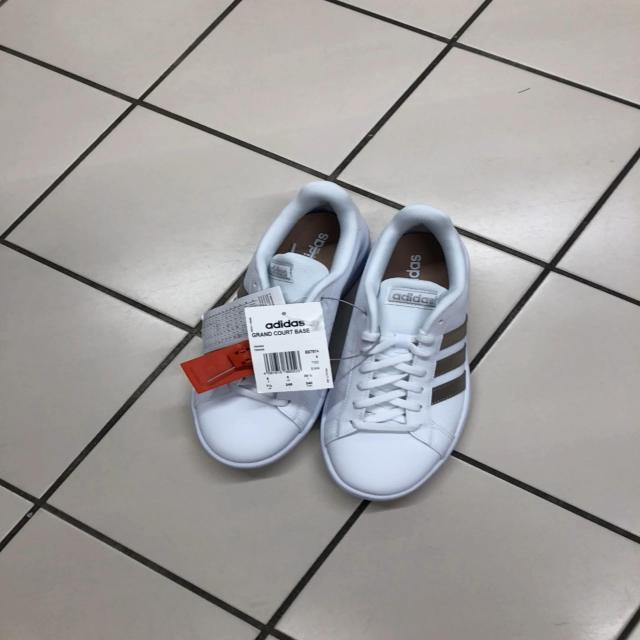shoe: (185, 184, 369, 473), (320, 205, 472, 505)
